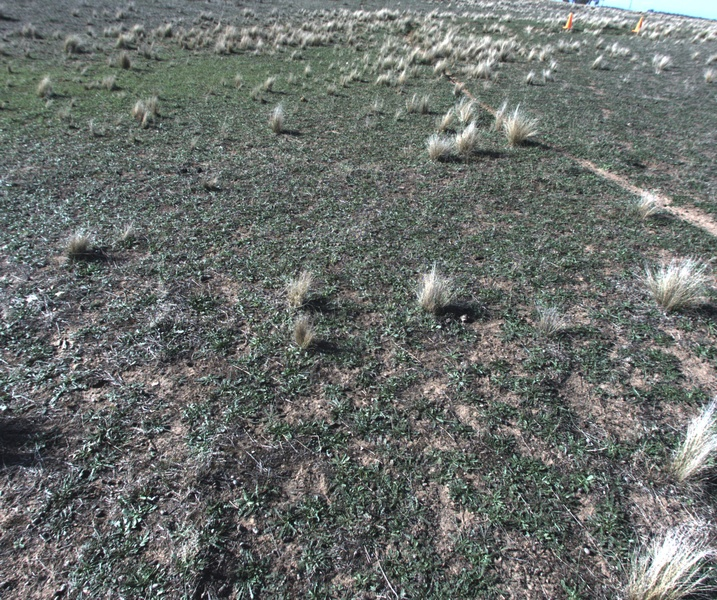st: (626, 507, 717, 598), (646, 251, 713, 318), (665, 404, 717, 468), (407, 257, 459, 316), (498, 111, 536, 155), (288, 318, 323, 359), (65, 225, 106, 260), (286, 275, 316, 309), (116, 218, 145, 253), (263, 96, 288, 134), (454, 122, 481, 157), (130, 97, 160, 128), (443, 101, 475, 127), (425, 134, 444, 160)
